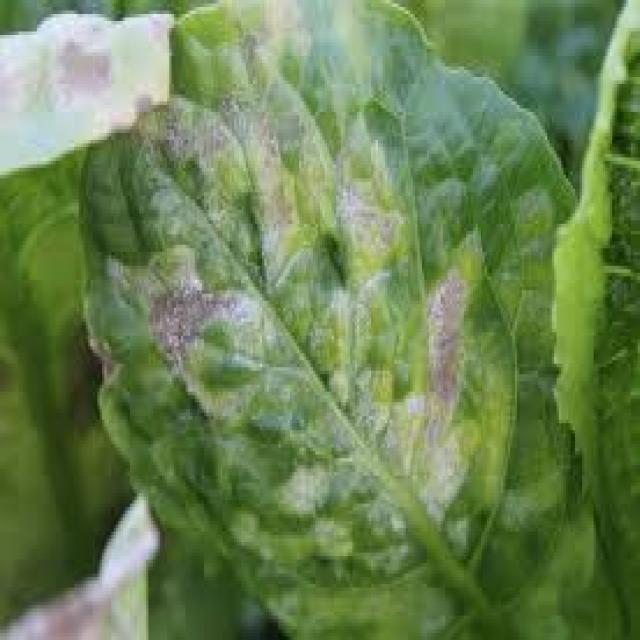Sick Lettuce: (75, 4, 578, 633)
